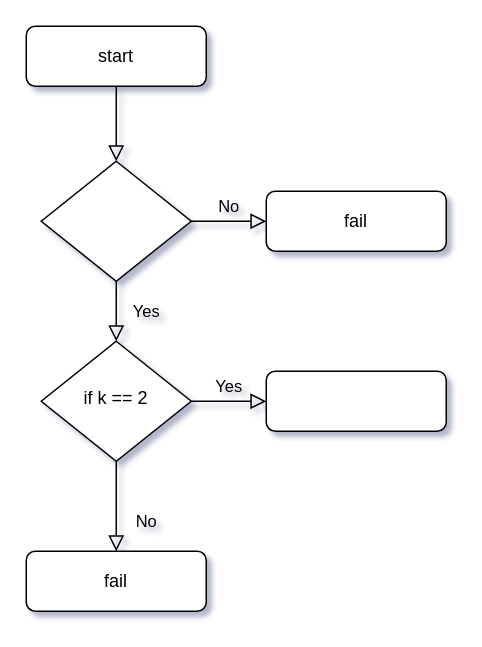
Some shapes in this 482 by 647 pixel diagram are drawn without their labels. The box of each missing label's shape, as (x1, y1, x2, y2) in pixels:
if input is a interger: (40, 160, 191, 281)
return n: (265, 370, 446, 431)
